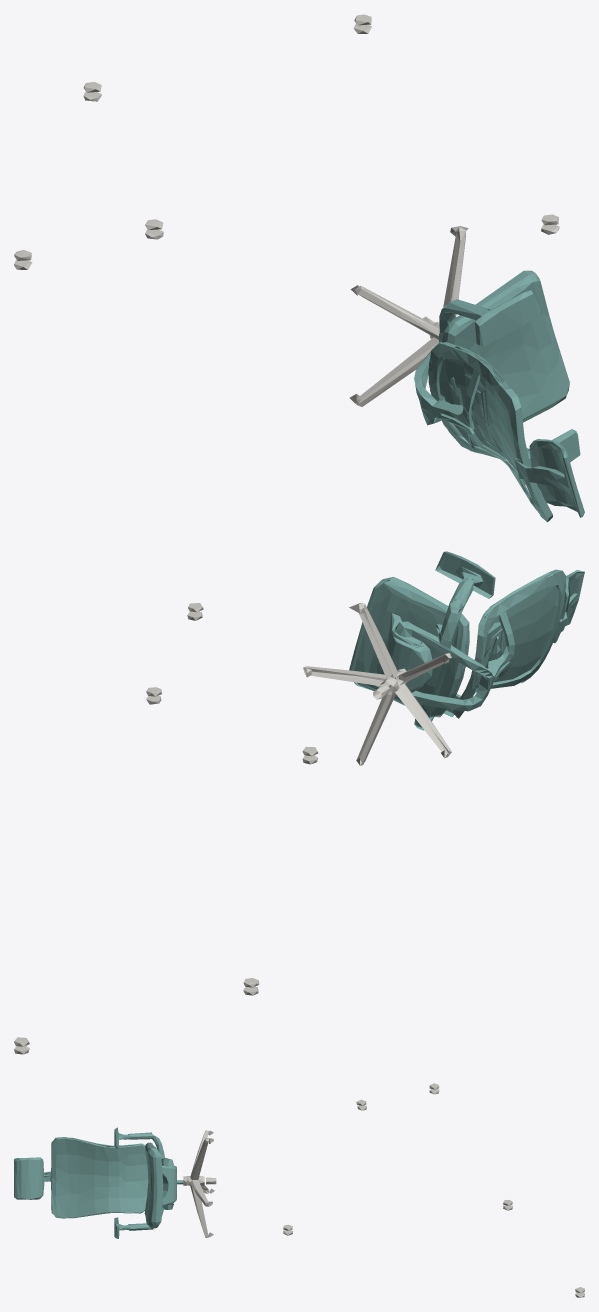
The picture shows the model from 3 angles, top to bottom: view 1: azimuth 30°, elevation 25°; view 2: azimuth 150°, elevation 25°; view 3: azimuth 270°, elevation 25°; orthographic projection. The views are drawn at different scales.
Visible parts, largest first — view 1: world; view 2: world; view 3: world.
Part boxes in pixels (left/top/right/bottom): world: left=14, top=14, right=584, bottom=522; world: left=14, top=551, right=584, bottom=1054; world: left=14, top=1083, right=584, bottom=1297.
Size of the model in its own units: 1.7 by 1.78 by 4.71.
